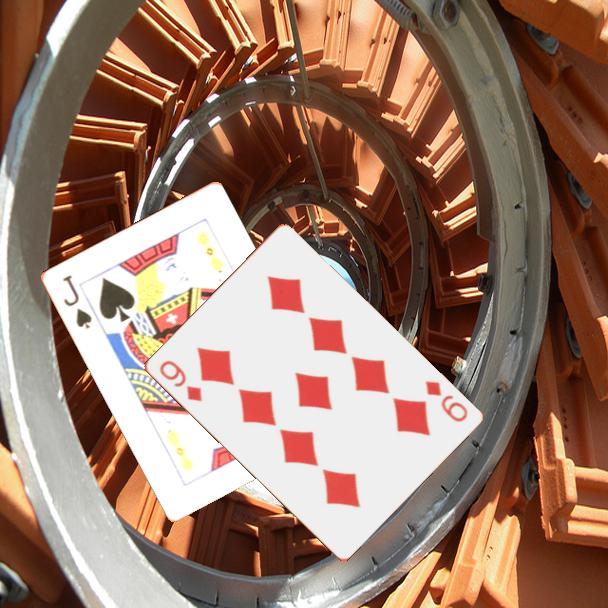d09: (421, 377, 470, 425), (155, 357, 205, 404)
s11: (59, 271, 94, 332)
